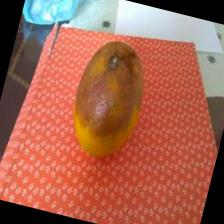Orange Rotten: (55, 28, 168, 173)
